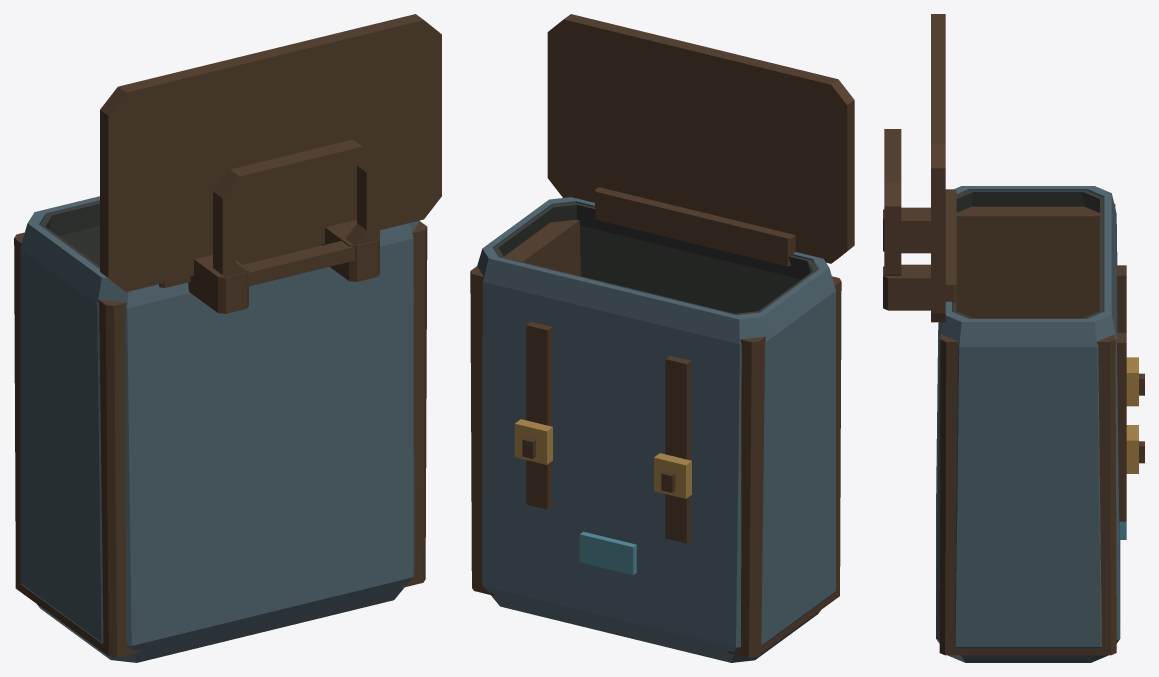
The picture shows the model from 3 angles, left to right: view 1: azimuth 30°, elevation 25°; view 2: azimuth 150°, elevation 25°; view 3: azimuth 270°, elevation 25°; orthographic projection. The views are drawn at different scales.
Visible parts, largest first — view 1: CHAR-014; view 2: CHAR-014; view 3: CHAR-014.
Boxes of the visible parts, x1=… form: CHAR-014: x1=14, y1=14, x2=441, y2=662; CHAR-014: x1=470, y1=14, x2=854, y2=662; CHAR-014: x1=883, y1=14, x2=1144, y2=662.
Bounding box in the file's own units: 0.28 × 0.467 × 0.213.
5 materials, 5 textured.
